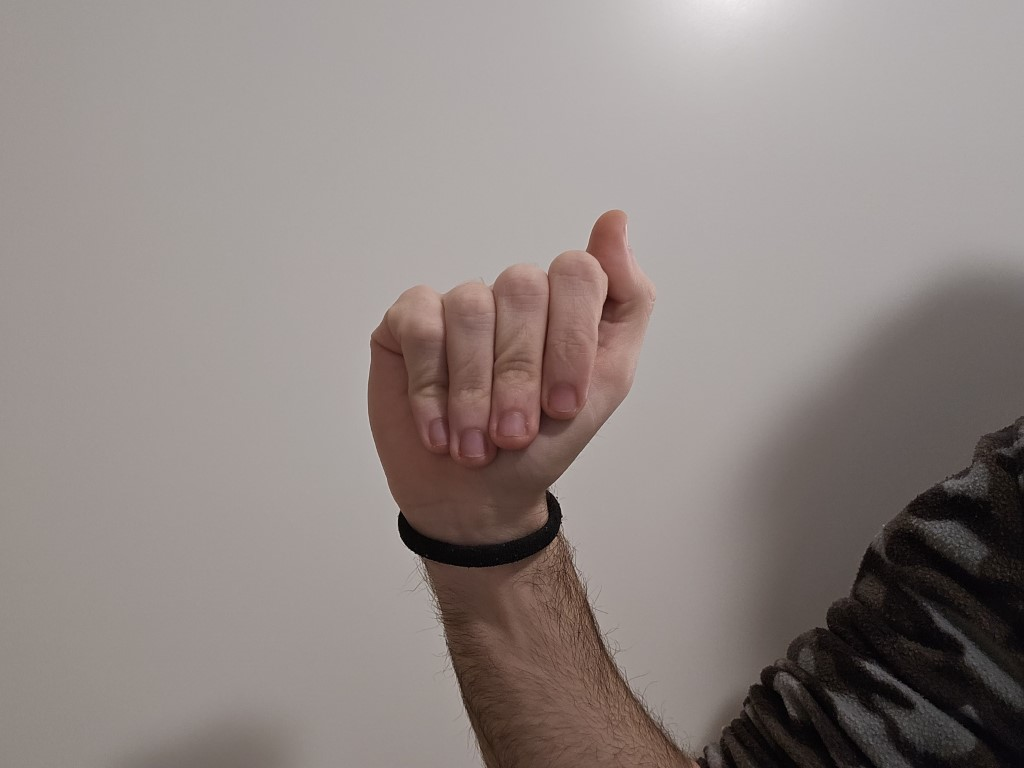a: (354, 200, 672, 541)
